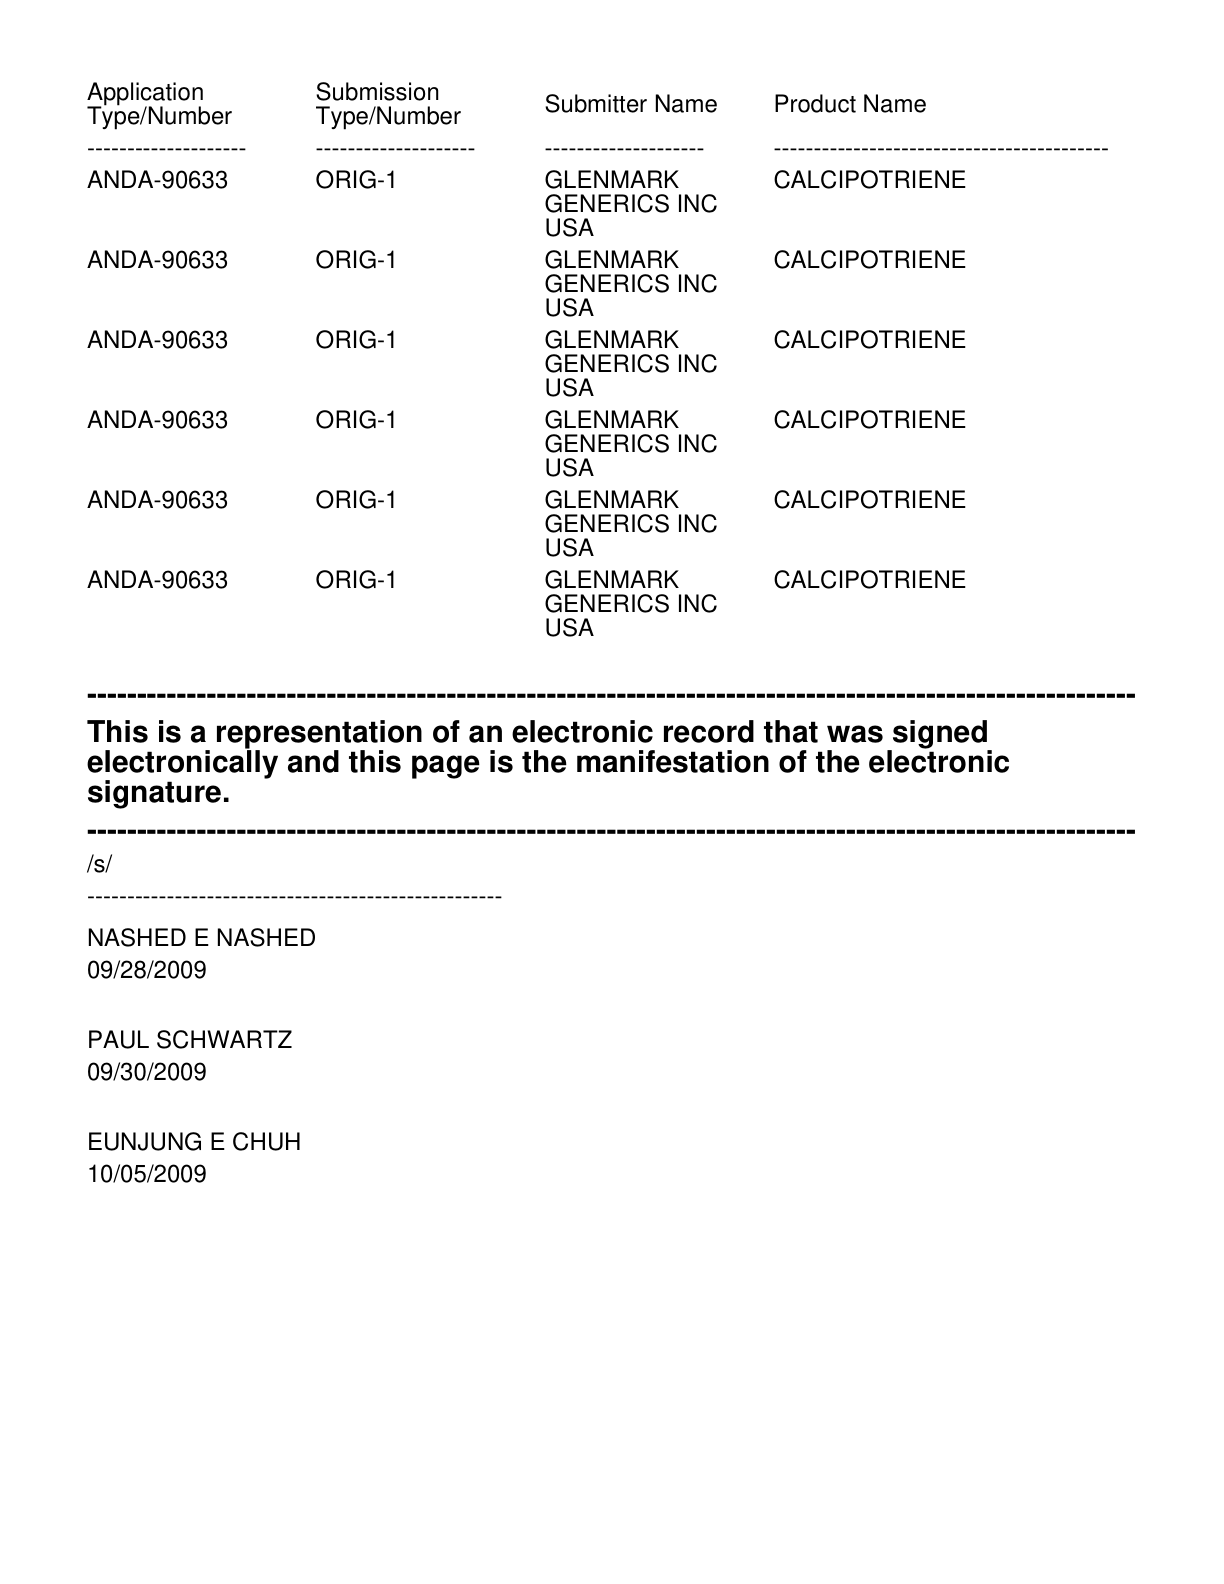nolines: (81, 77, 1110, 639)
